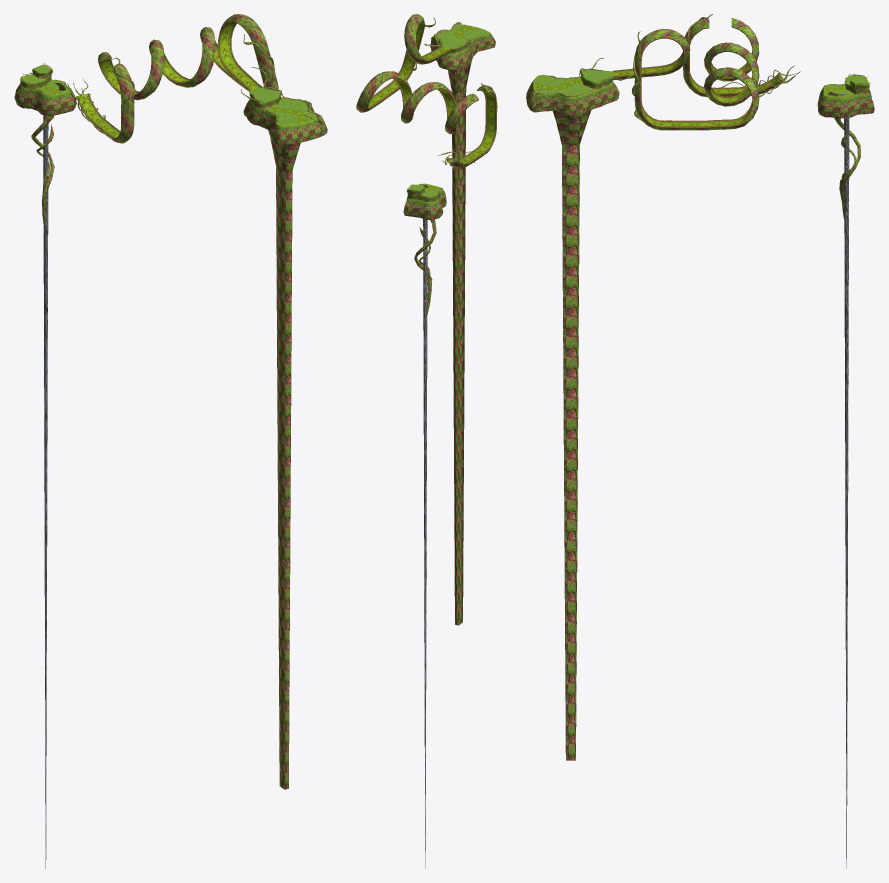
File: Frog Forest 2.fbx
3 renders of one model, left to right at view 1: azimuth 30°, elevation 25°; view 2: azimuth 150°, elevation 25°; view 3: azimuth 270°, elevation 25°, orthographic. The views are drawn at different scales.
Parts seen in each view (by area): view 1: Object_2, Object_2.001; view 2: Object_2, Object_2.001; view 3: Object_2, Object_2.001.
Boxes of the visible parts, <box> form: Object_2: <box>14,14,327,868</box>; Object_2.001: <box>20,22,316,137</box>; Object_2: <box>356,14,497,868</box>; Object_2.001: <box>368,21,495,197</box>; Object_2: <box>526,14,874,868</box>; Object_2.001: <box>533,54,868,126</box>.
Bounding box in the file's own units: 123288 × 670821 × 238017.
